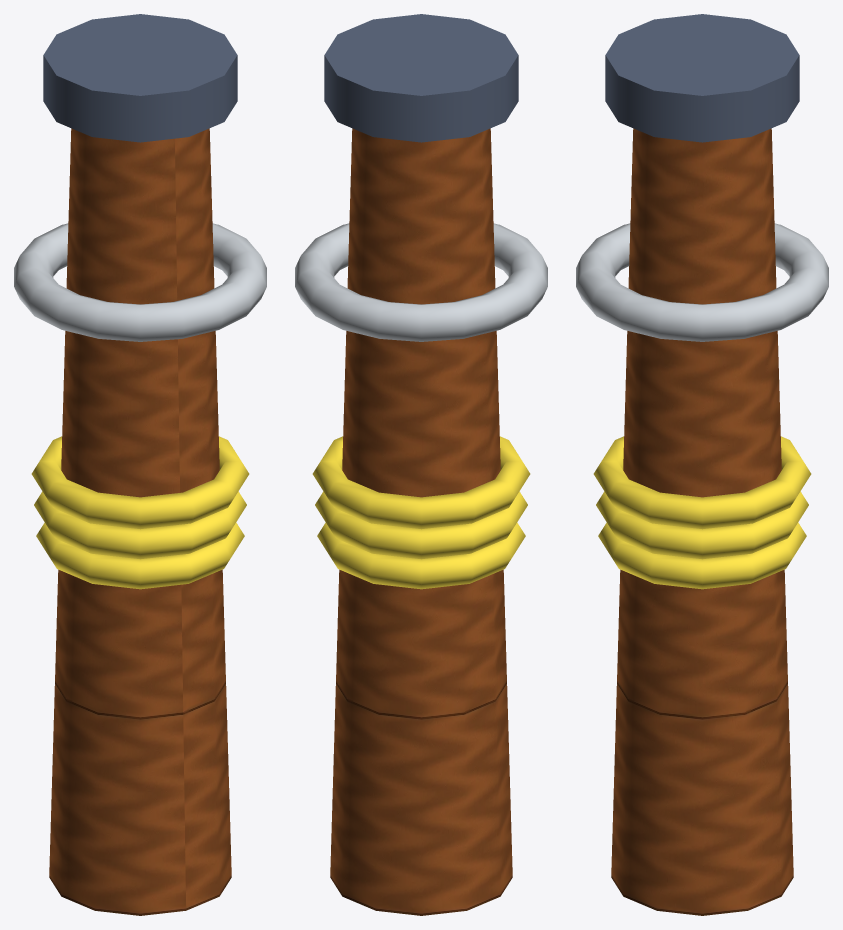
Rendered from hero-shooter-harbour-payload-quay-mooring-post-e95bfa3f__27703.glb.
3 views of the same model, side by side, from view 1: azimuth 30°, elevation 25°; view 2: azimuth 150°, elevation 25°; view 3: azimuth 270°, elevation 25° (orthographic).
Visible parts, largest first — view 1: quay-mooring-post; view 2: quay-mooring-post; view 3: quay-mooring-post.
Boxes of the visible parts, <box> form: quay-mooring-post: <box>14,14,266,915</box>; quay-mooring-post: <box>295,14,547,915</box>; quay-mooring-post: <box>576,14,828,915</box>.
Bounding box in the file's own units: 0.45 × 1.59 × 0.4432.
Materials: 4 (1 with a texture image).
